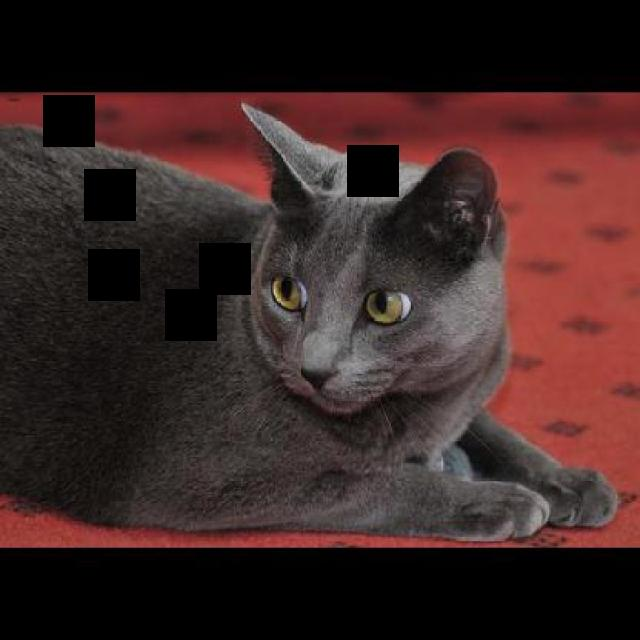unauthorized: (0, 100, 620, 542)
